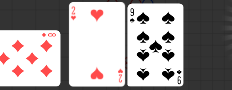2H: (116, 67, 123, 83)
8D: (40, 31, 57, 38)
